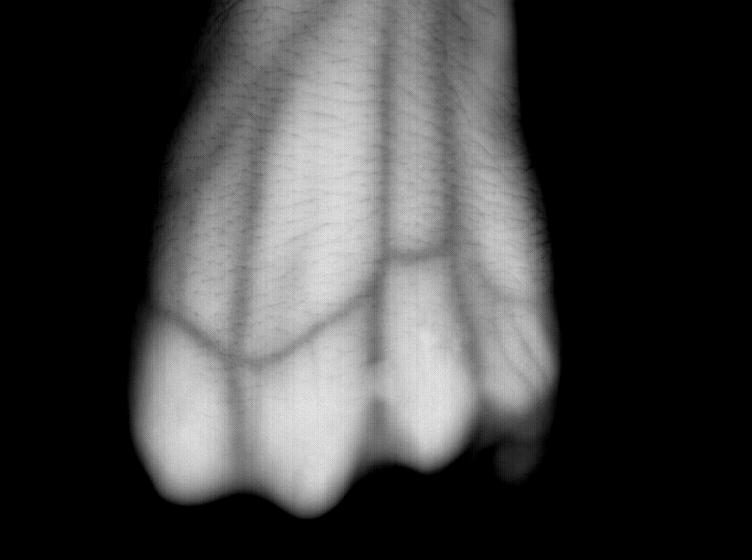Vein: (200, 33, 471, 371)
